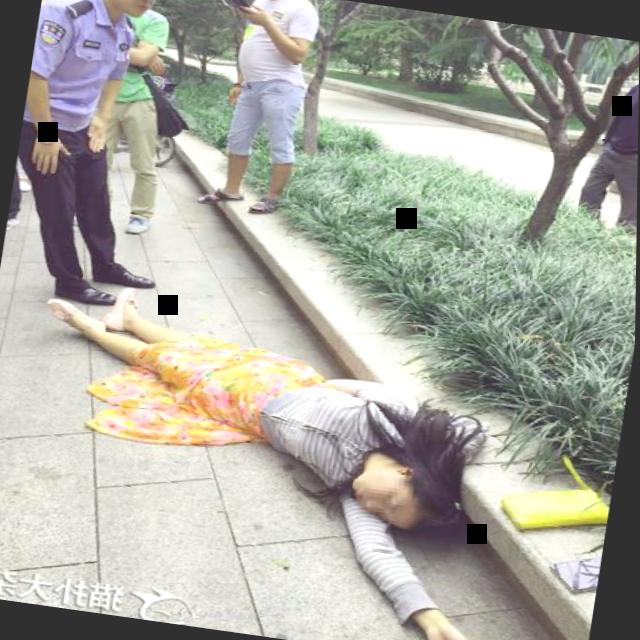Fall-Detected: (5, 285, 564, 640)
